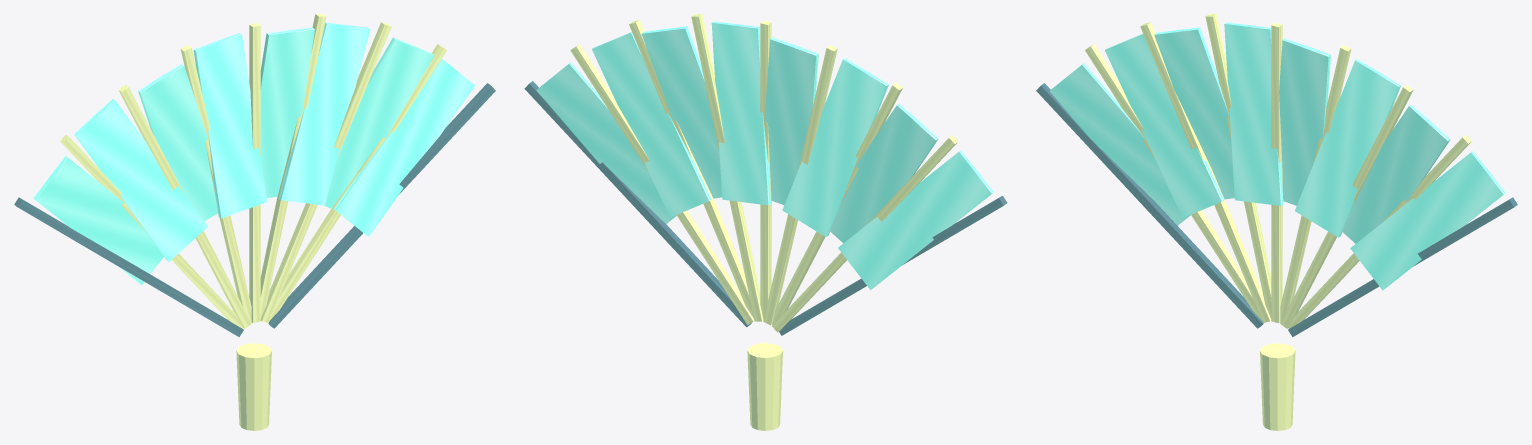
The model's file is jade-folding-fan.glb.
3 renders of one model, left to right at view 1: azimuth 30°, elevation 25°; view 2: azimuth 150°, elevation 25°; view 3: azimuth 330°, elevation 25°, orthographic.
Parts seen in each view (by area): view 1: TS_Prop_jade-folding-fan; view 2: TS_Prop_jade-folding-fan; view 3: TS_Prop_jade-folding-fan.
Boxes of the visible parts, box(x1,y1,x2,y2) form: TS_Prop_jade-folding-fan: box(14, 14, 495, 430); TS_Prop_jade-folding-fan: box(524, 14, 1007, 430); TS_Prop_jade-folding-fan: box(1036, 14, 1517, 430).
Size of the model in its own units: 0.3719 by 0.2975 by 0.024.
1 material, 1 textured.
